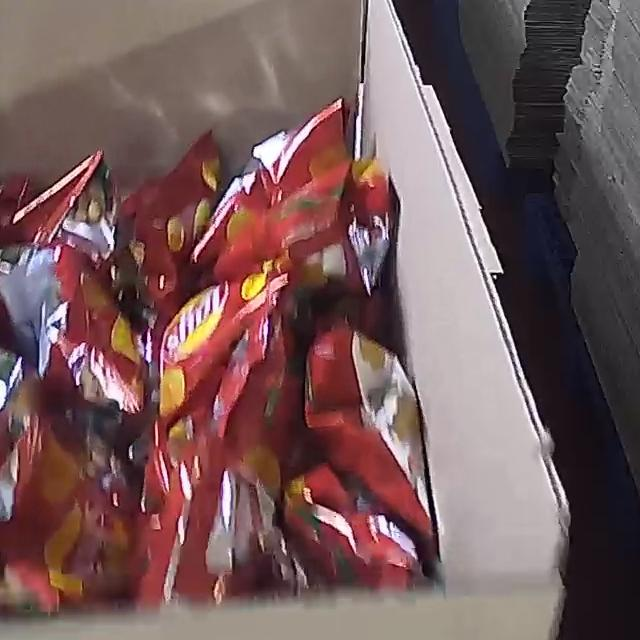masala: (0, 94, 442, 622)
